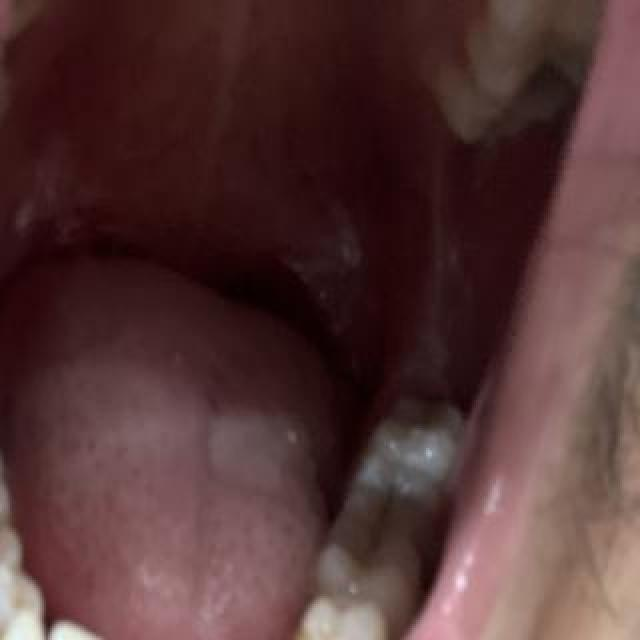cavities: (332, 503, 398, 599), (370, 458, 428, 534)
maligned: (48, 604, 122, 640), (146, 632, 238, 640)
